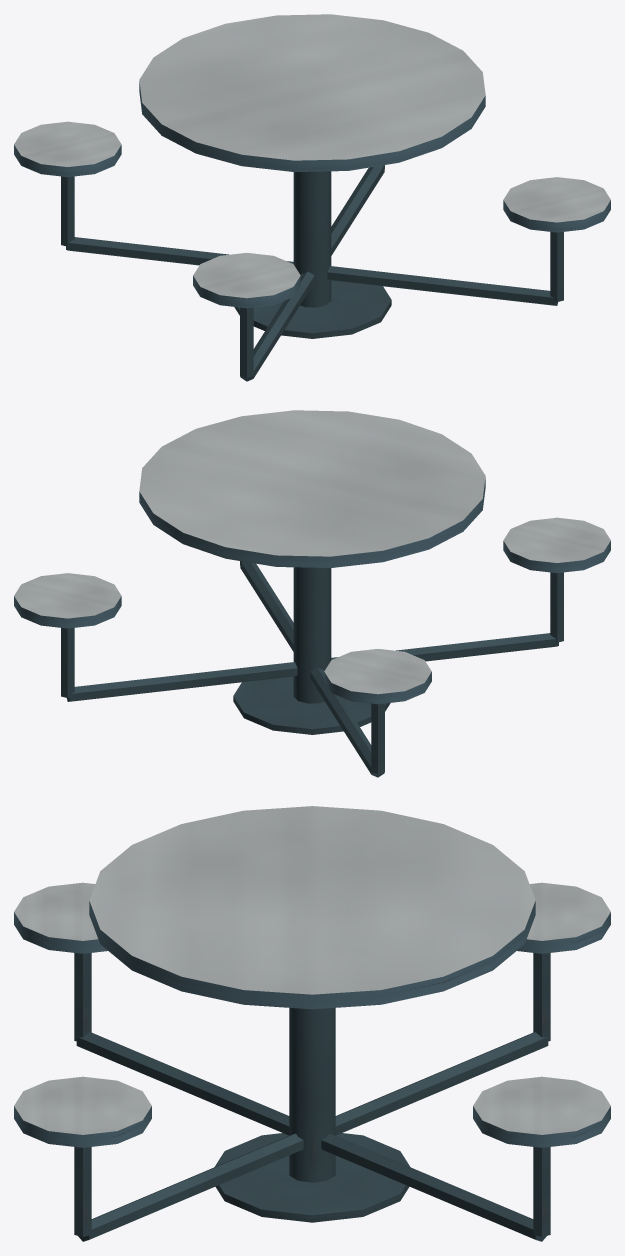
File: canteen_table.fbx
The picture shows the model from 3 angles, top to bottom: view 1: azimuth 30°, elevation 25°; view 2: azimuth 150°, elevation 25°; view 3: azimuth 270°, elevation 25°; orthographic projection. The views are drawn at different scales.
Parts seen in each view (by area): view 1: canteen_table; view 2: canteen_table; view 3: canteen_table.
Part boxes in pixels (<box>): canteen_table: <box>14,14,610,381</box>; canteen_table: <box>14,410,610,777</box>; canteen_table: <box>14,806,610,1241</box>.
Size of the model in its own units: 1.47 by 0.76 by 1.47.
1 material, 1 textured.
